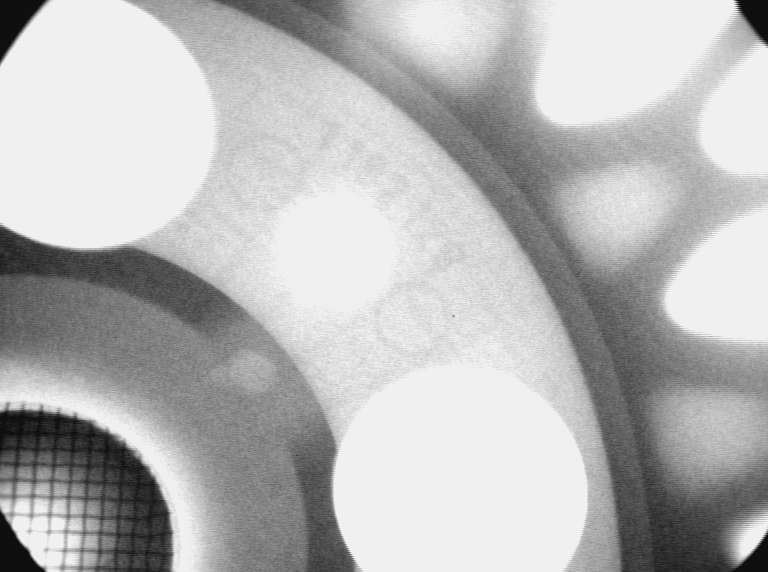defect: (207, 347, 283, 400)
